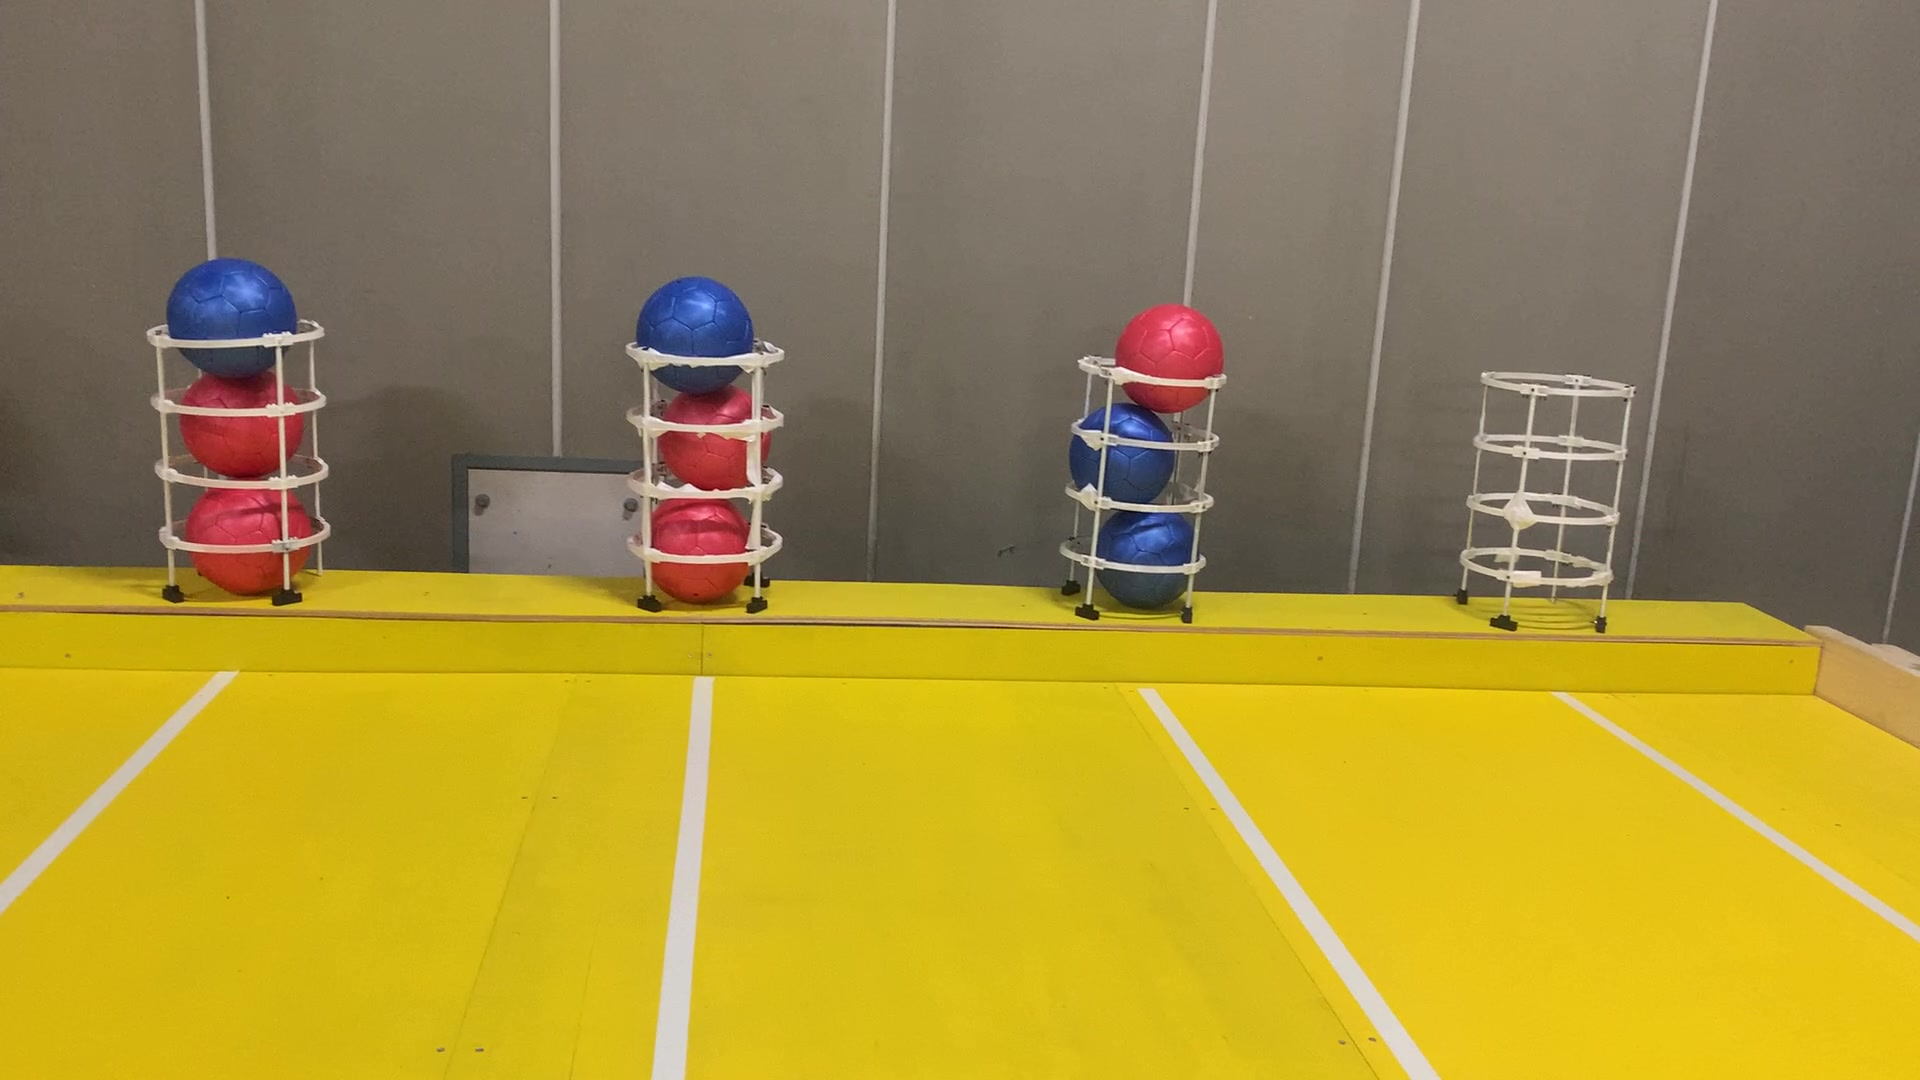blue: (153, 252, 305, 380), (621, 266, 750, 389), (1092, 501, 1199, 624), (1064, 396, 1174, 512)
red: (173, 476, 323, 605), (1104, 298, 1229, 421), (185, 364, 307, 480), (650, 371, 765, 492), (633, 496, 753, 609)
